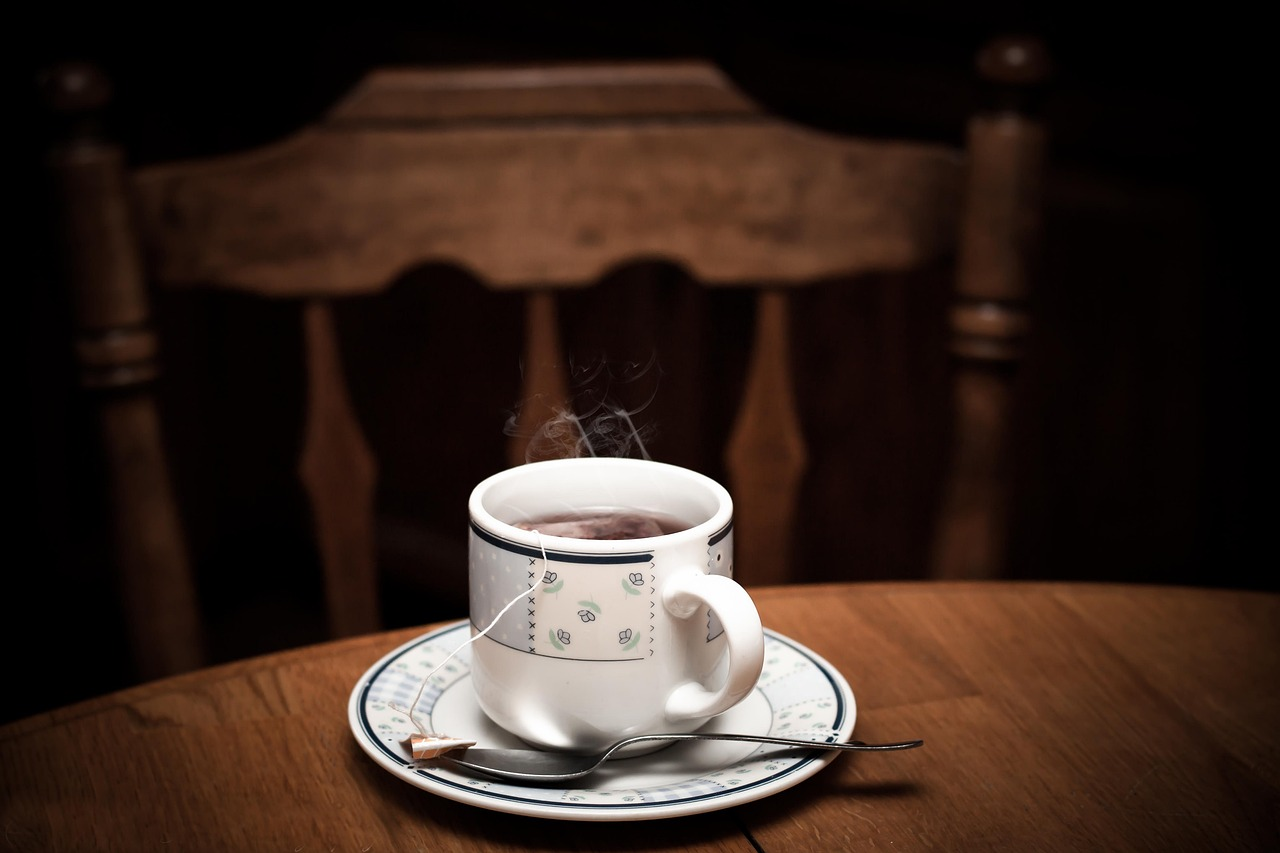mug: (395, 449, 799, 753)
